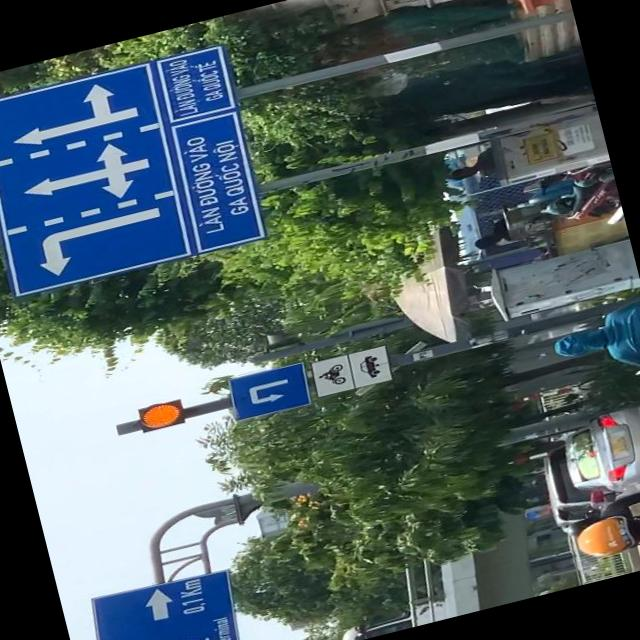I-409: (231, 363, 309, 417)
